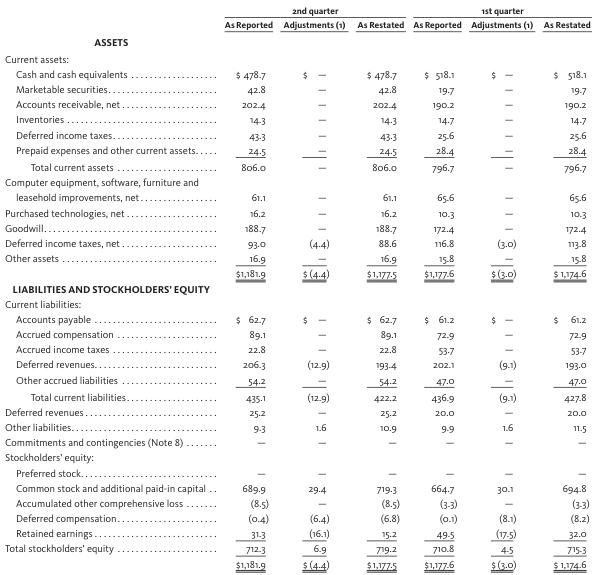table: (4, 4, 589, 569)
table column: (4, 4, 214, 569), (277, 4, 350, 569), (465, 4, 537, 569), (214, 4, 277, 569), (407, 4, 465, 569), (350, 4, 407, 569), (537, 4, 589, 569)
table column header: (4, 4, 589, 32)
table projected row header: (4, 32, 589, 49), (4, 49, 589, 65), (4, 280, 589, 295), (4, 295, 589, 310), (4, 449, 589, 464)
table row: (4, 173, 589, 204), (4, 32, 589, 49), (4, 16, 589, 32), (4, 49, 589, 65), (4, 80, 589, 96), (4, 141, 589, 157), (4, 157, 589, 173), (4, 234, 589, 250), (4, 325, 589, 341), (4, 371, 589, 387), (4, 387, 589, 403), (4, 418, 589, 434), (4, 509, 589, 525), (4, 65, 589, 80), (4, 96, 589, 111), (4, 111, 589, 126), (4, 126, 589, 141), (4, 204, 589, 219), (4, 219, 589, 234), (4, 250, 589, 265), (4, 265, 589, 280), (4, 280, 589, 295), (4, 295, 589, 310), (4, 310, 589, 325), (4, 341, 589, 356), (4, 356, 589, 371), (4, 403, 589, 418), (4, 434, 589, 449), (4, 449, 589, 464), (4, 464, 589, 479), (4, 479, 589, 494), (4, 494, 589, 509), (4, 525, 589, 540), (4, 540, 589, 555), (4, 555, 589, 569), (4, 4, 589, 16)
table spanning cell: (214, 4, 407, 16), (407, 4, 589, 16)
